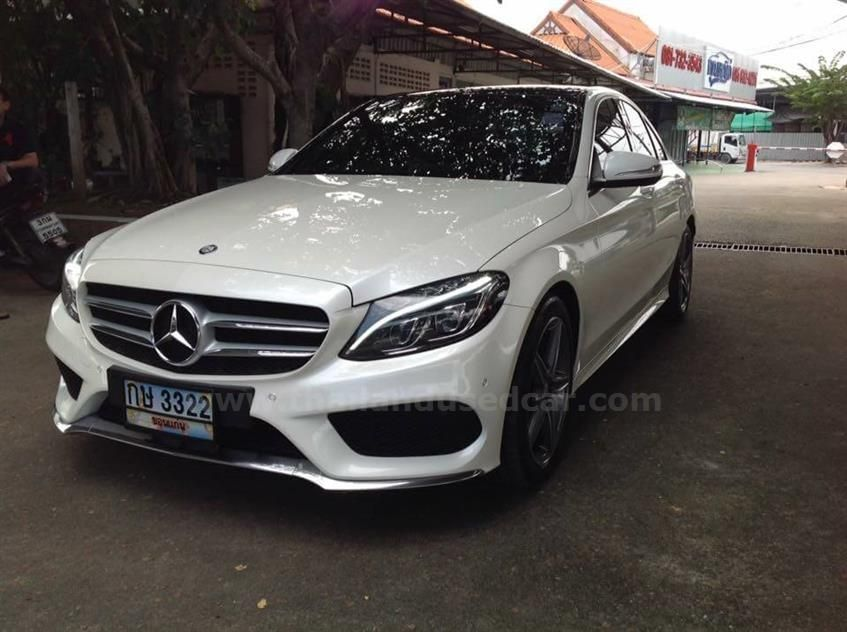sedan: (38, 79, 700, 496)
